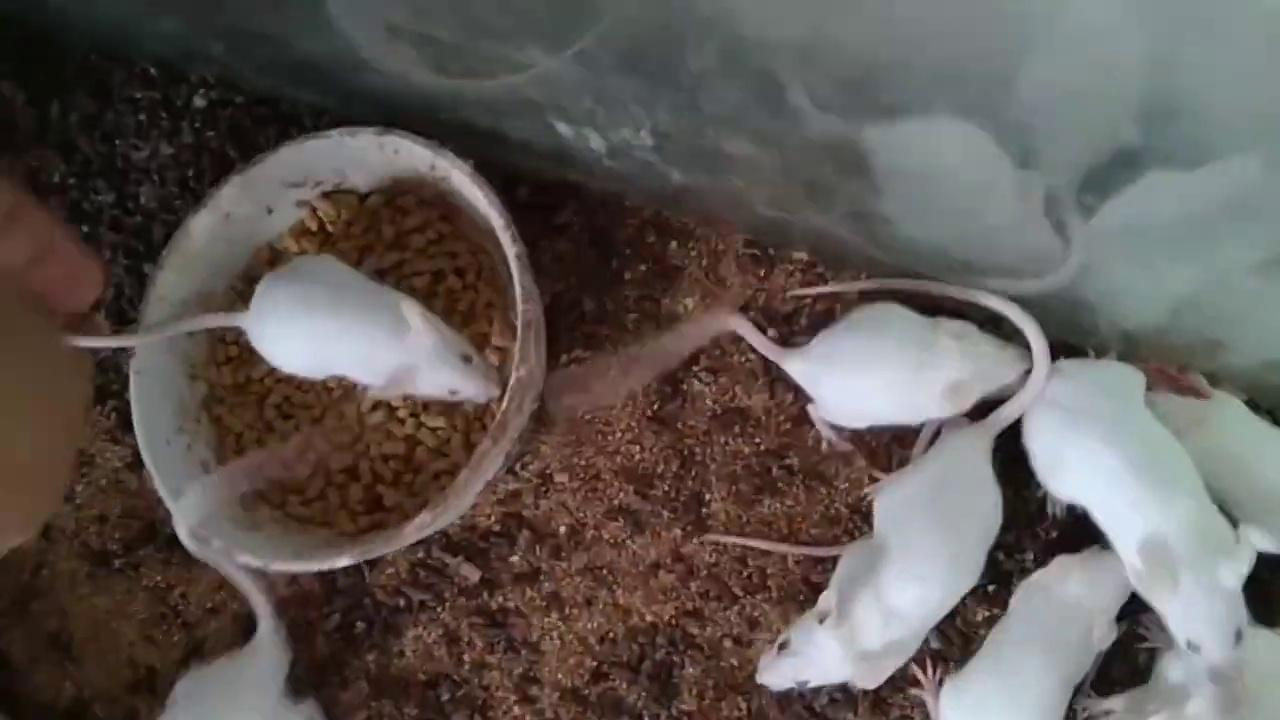rat: (1022, 356, 1246, 682), (755, 422, 1015, 692), (66, 252, 502, 402), (707, 302, 1032, 453), (910, 547, 1137, 720), (1149, 383, 1280, 550)
